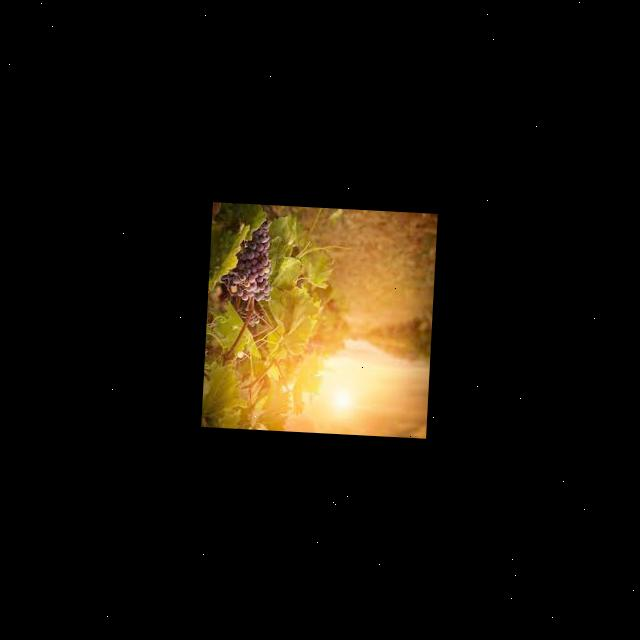grape: (218, 218, 277, 328)
